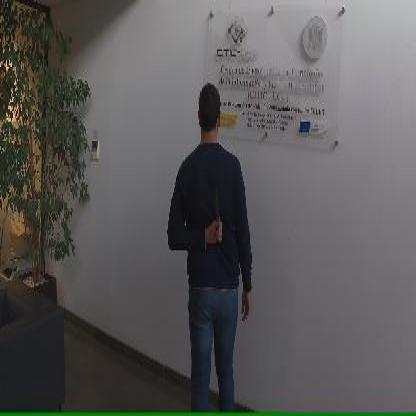knife: (211, 181, 223, 242)
